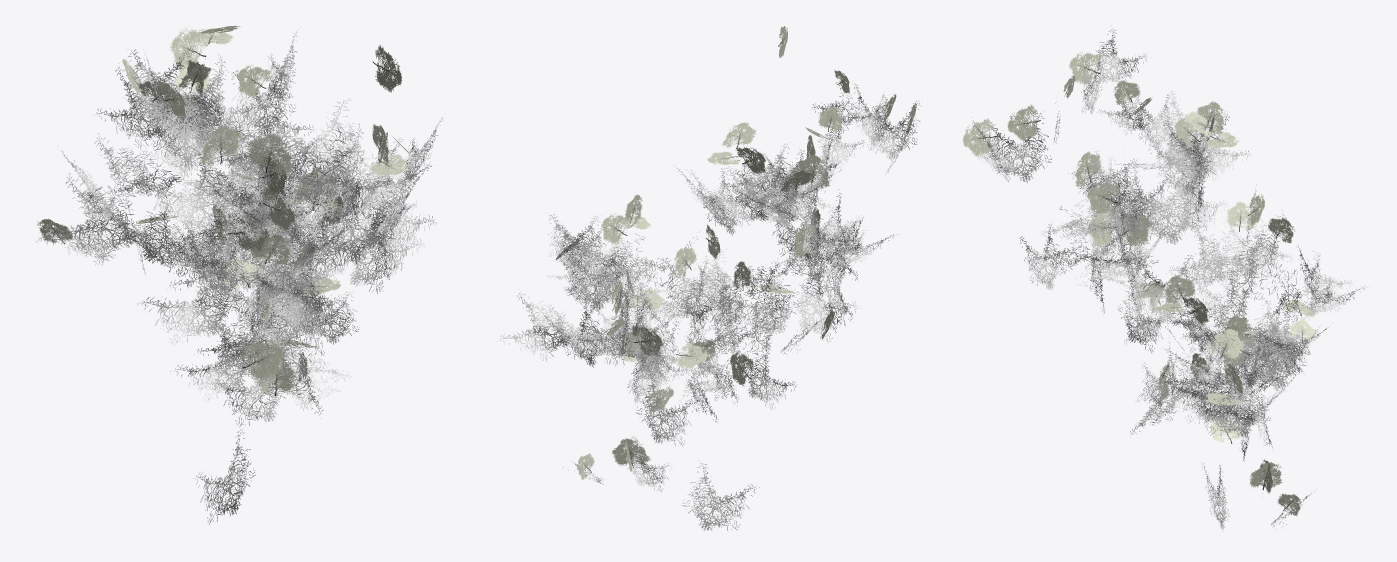
File: MESH_OC56_MelaleucaAlternifolia_Y_LOD2.fbx
3 renders of one model, left to right at view 1: azimuth 30°, elevation 25°; view 2: azimuth 150°, elevation 25°; view 3: azimuth 270°, elevation 25°, orthographic. The views are drawn at different scales.
Visible parts, largest first — view 1: MI_LOD2_001, MI_LOD2_002; view 2: MI_LOD2_001, MI_LOD2_002; view 3: MI_LOD2_001, MI_LOD2_002.
Boxes of the visible parts, <box> form: MI_LOD2_001: <box>35,29,442,524</box>; MI_LOD2_002: <box>37,25,418,395</box>; MI_LOD2_001: <box>497,81,922,530</box>; MI_LOD2_002: <box>555,26,916,480</box>; MI_LOD2_001: <box>971,29,1370,531</box>; MI_LOD2_002: <box>963,51,1315,515</box>.
Size of what is drawn, in the model's own units: 242 by 297 by 245.
